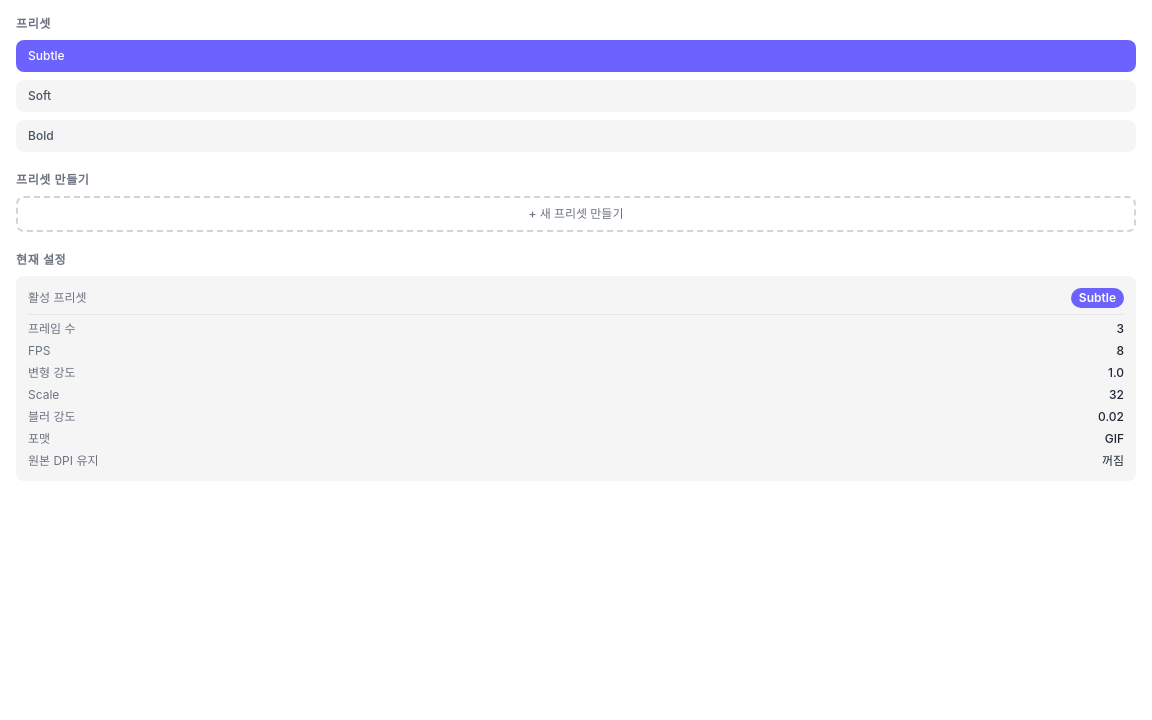
Sidebar › 저장된 프리셋의 삭제 버튼을 누르면 제거된다
Click the button "+ 새 프리셋 만들기": click(576, 214) [16,196,1136,232]
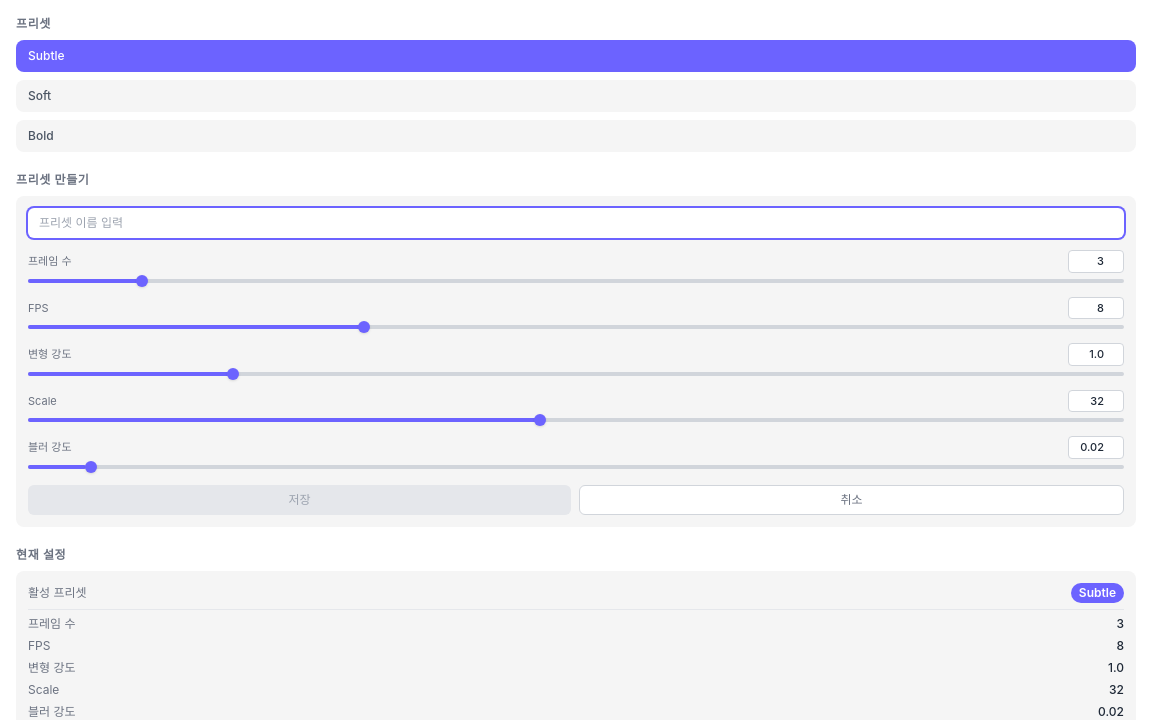
In the field with placeholder "프리셋 이름 입력": (576, 223) [28,208,1124,238], type "삭제할 프리셋"
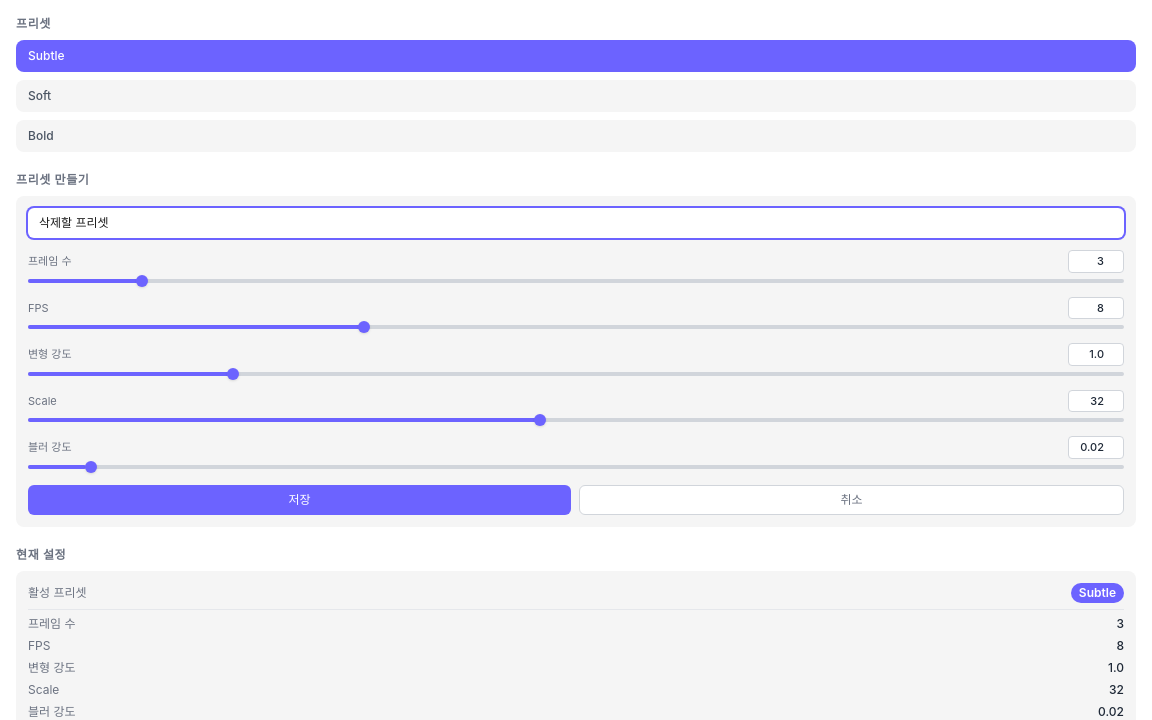
Click the button "저장": click(300, 500) [28,484,571,514]
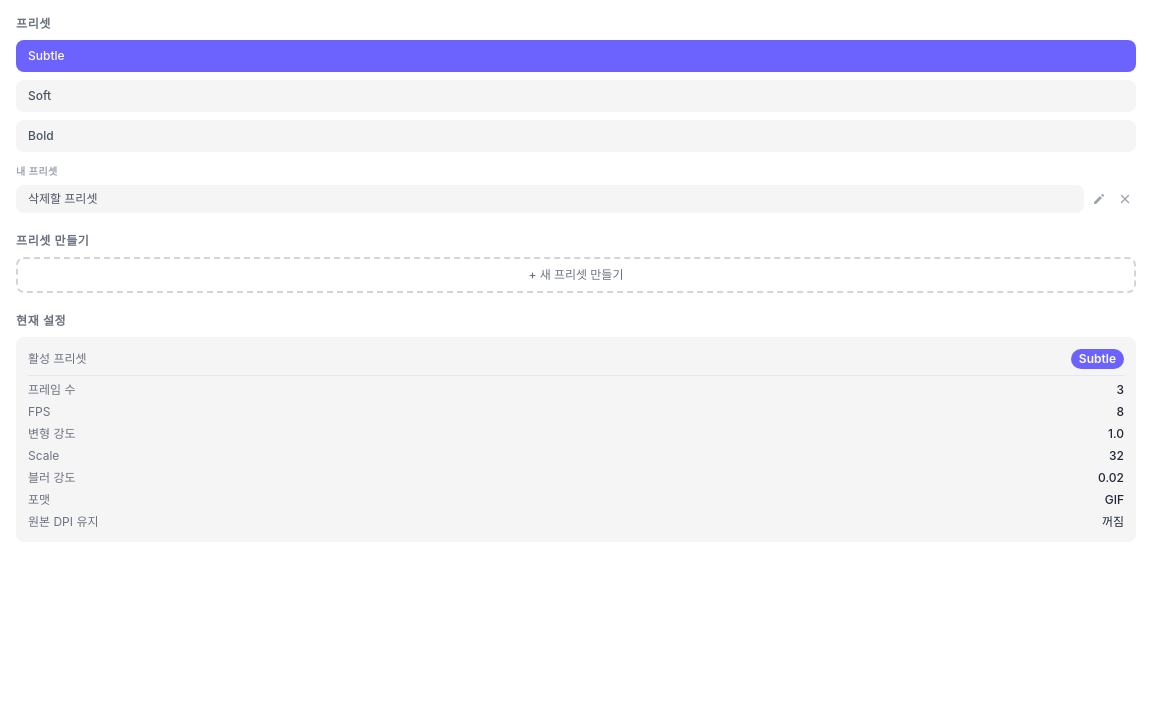
Now the button "삭제할 프리셋" is shown, box [16,185,1084,213]
Click the button named "삭제할 프리셋 프리셋 삭제": click(1125, 199) [1114,188,1136,210]
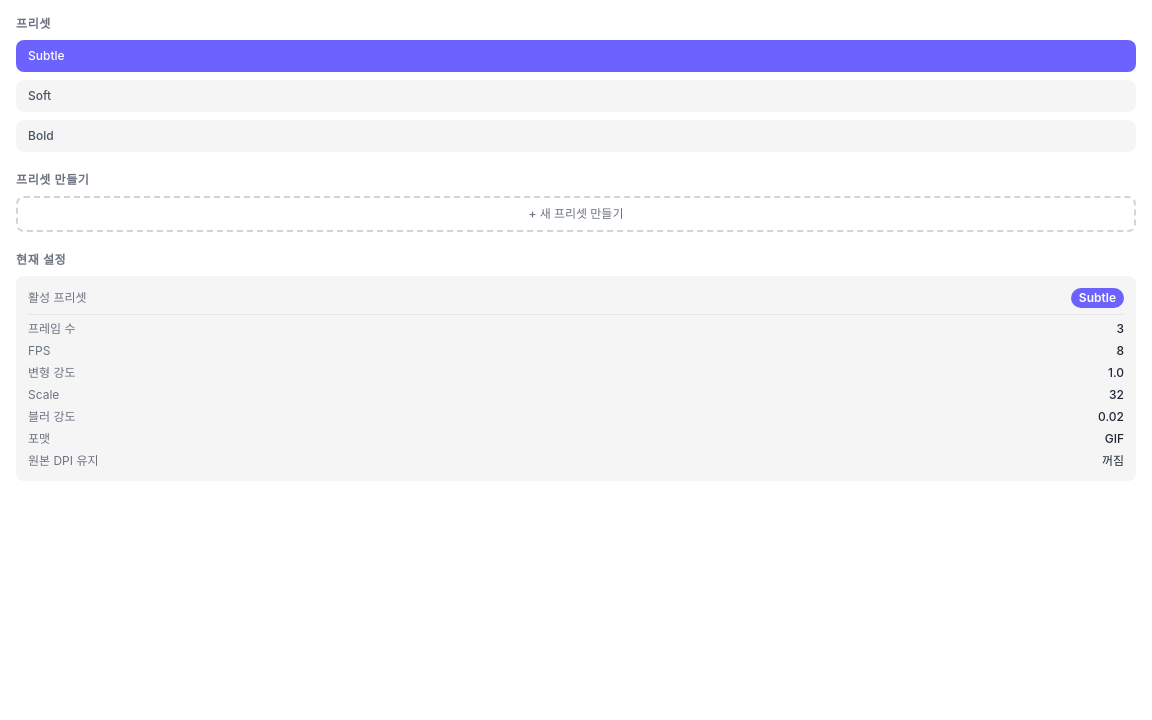
Now the button "삭제할 프리셋" is gone
